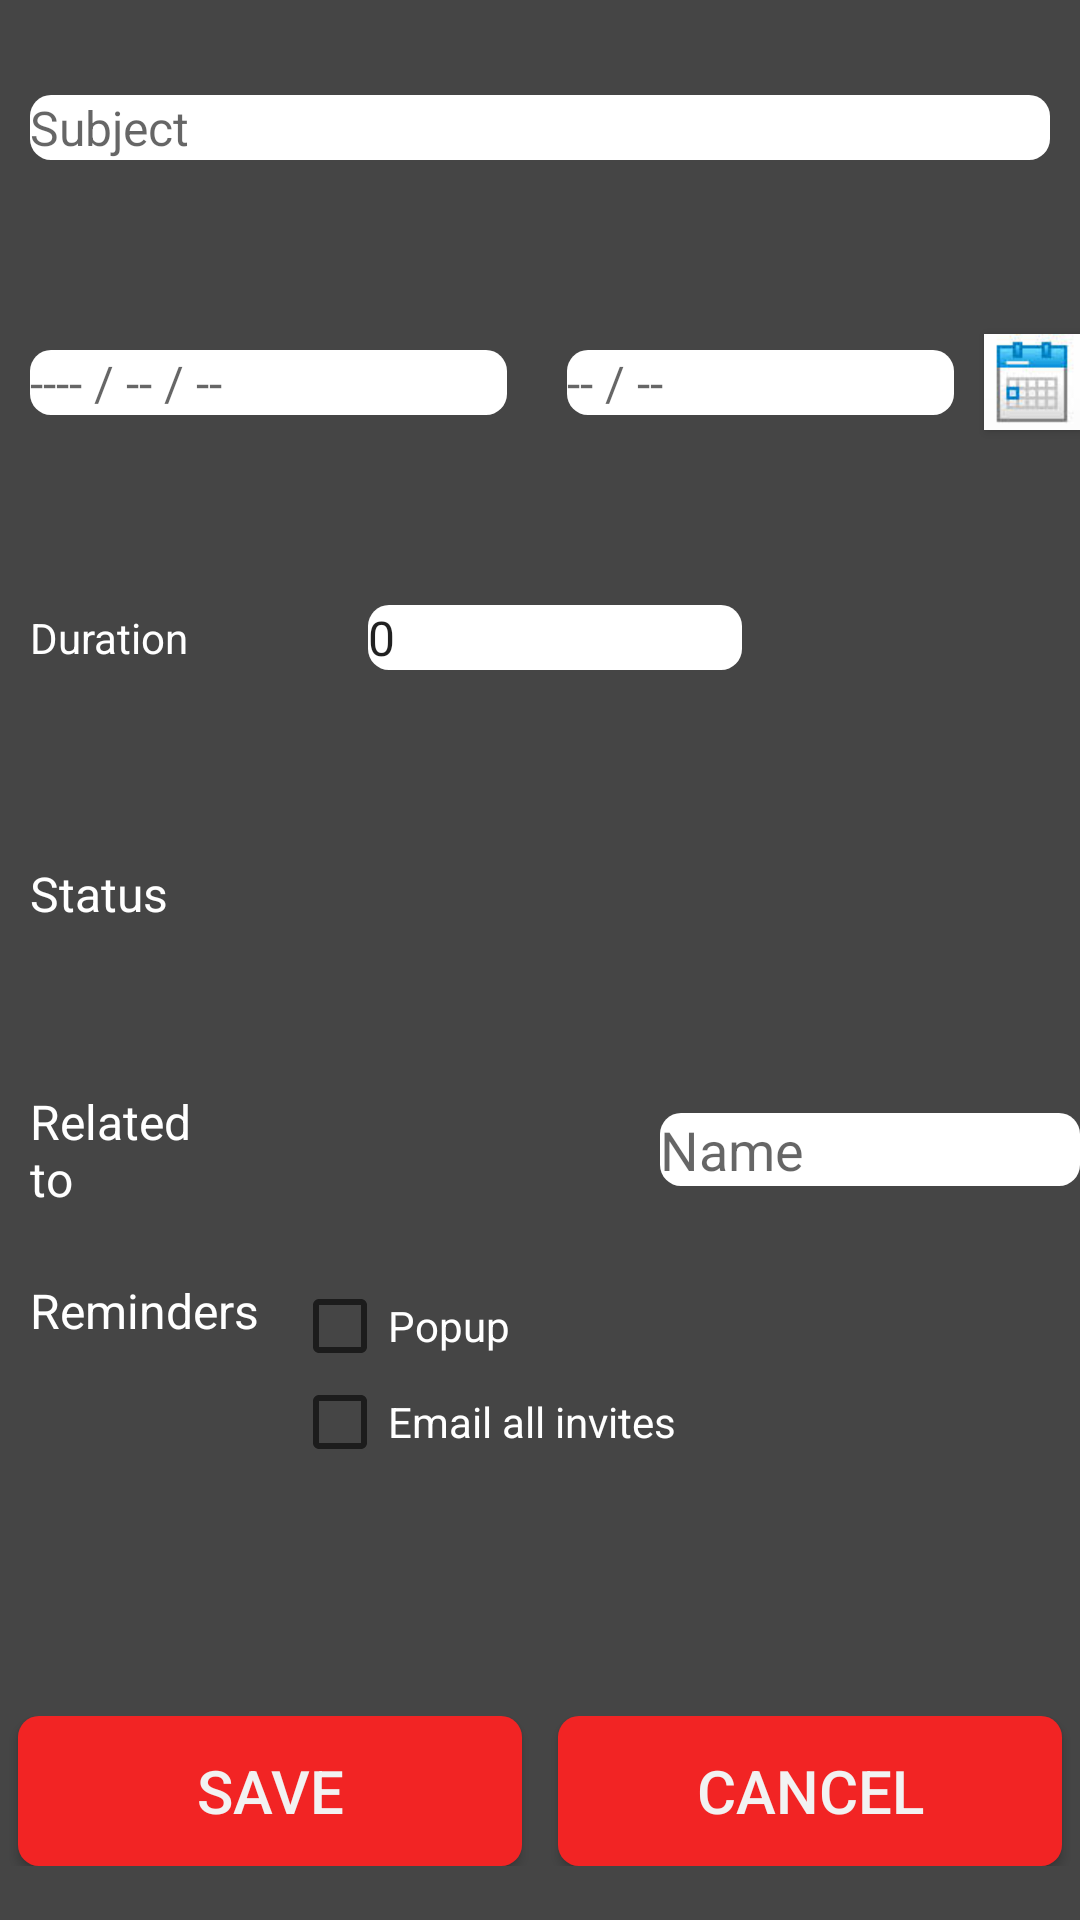

Icon click points for this 1080 x 1920 phone screenshot, format (x,y):
date picker: (1032,382)
